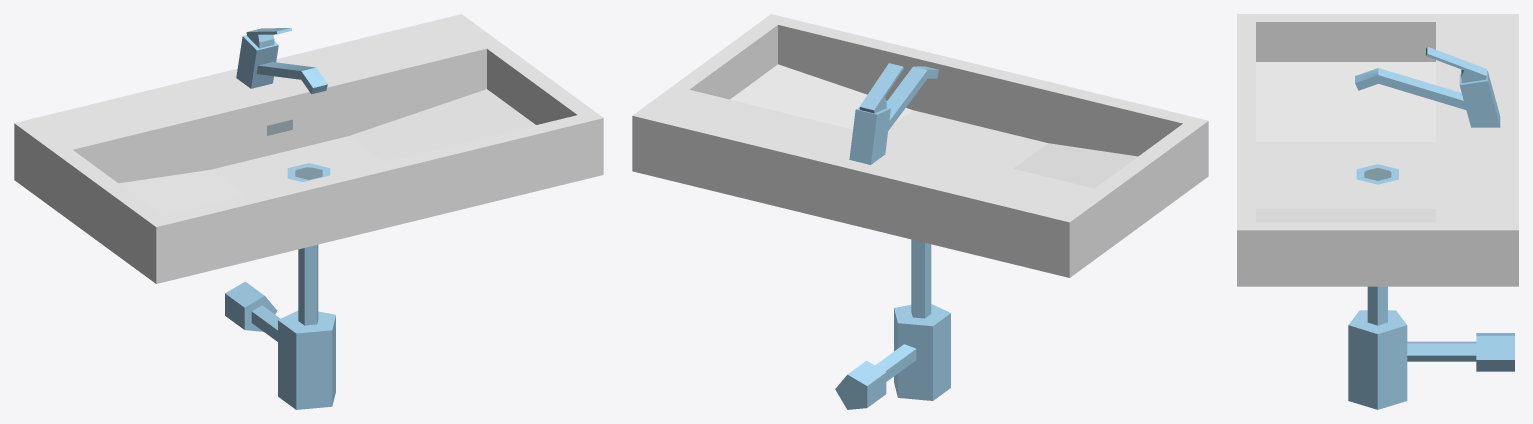
The model's file is bathroom_item_021.glb.
3 views of the same model, side by side, from view 1: azimuth 30°, elevation 25°; view 2: azimuth 150°, elevation 25°; view 3: azimuth 270°, elevation 25° (orthographic). The views are drawn at different scales.
Parts seen in each view (by area): view 1: bathroom_item_021; view 2: bathroom_item_021; view 3: bathroom_item_021.
Boxes of the visible parts, <box> form: bathroom_item_021: <box>14,14,603,409</box>; bathroom_item_021: <box>632,14,1208,409</box>; bathroom_item_021: <box>1237,14,1518,409</box>.
Bounding box in the file's own units: 0.5507 × 0.4115 × 0.303.
1 material, 1 textured.
